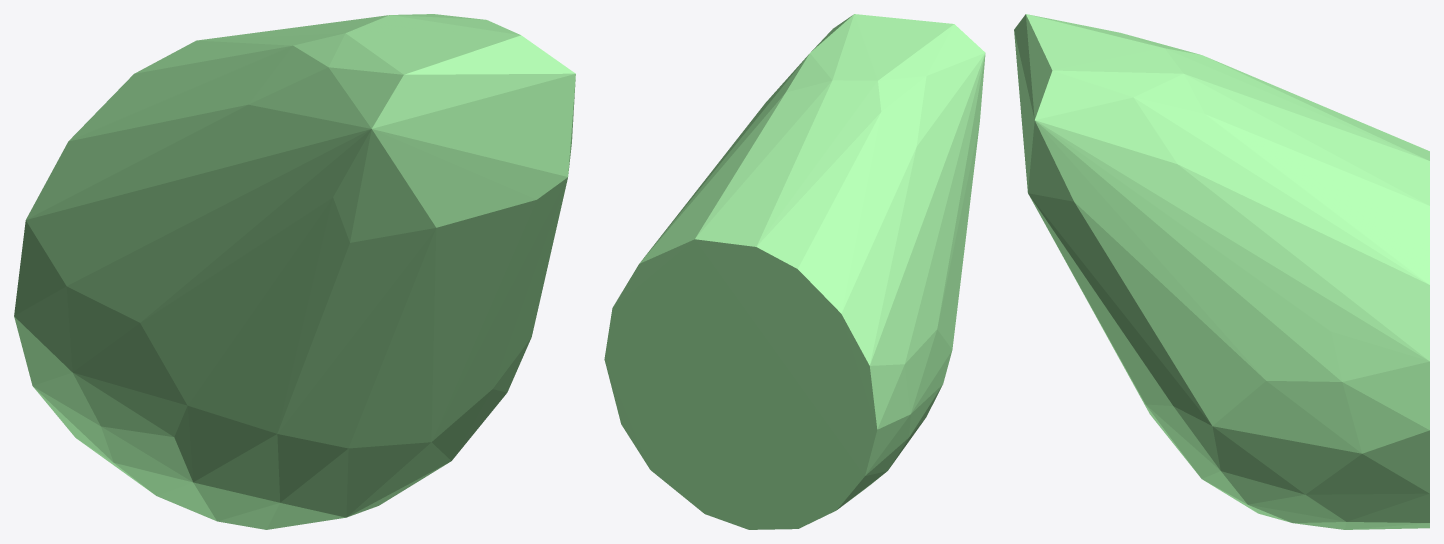
Rendered from exported_panda_link6_resp_coll_3.dae.
3 renders of one model, left to right at view 1: azimuth 30°, elevation 25°; view 2: azimuth 150°, elevation 25°; view 3: azimuth 270°, elevation 25°, orthographic. The views are drawn at different scales.
Parts seen in each view (by area): view 1: node; view 2: node; view 3: node.
Part boxes in pixels (bbox=[...]): node: bbox=[14, 14, 575, 529]; node: bbox=[604, 14, 985, 529]; node: bbox=[1014, 14, 1429, 529].
Bounding box in the file's own units: 0.1103 × 0.1515 × 0.121.
